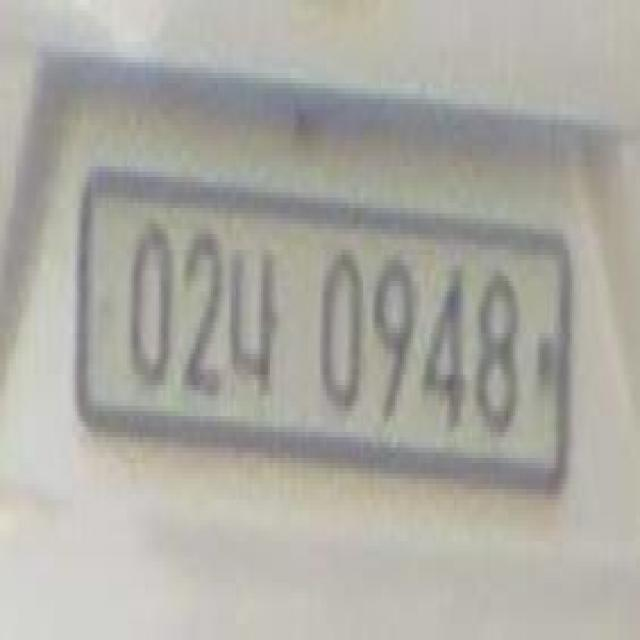illegal_plate: (80, 167, 570, 520)
